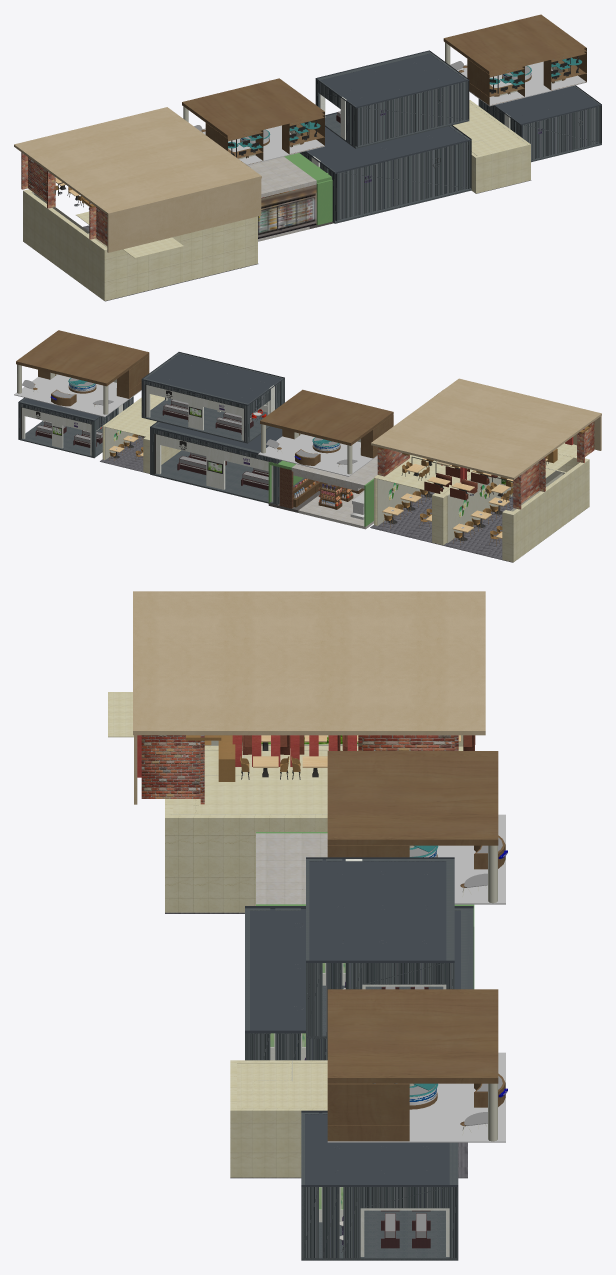
Rendered from gzl_jiangsukejidasha_shop.FBX.
3 views of the same model, one above another, from view 1: azimuth 30°, elevation 25°; view 2: azimuth 150°, elevation 25°; view 3: azimuth 270°, elevation 25° (orthographic). The views are drawn at different scales.
Parts seen in each view (by area): view 1: gzl_jiangsukejidasha_shop_32, gzl_jiangsukejidasha_shop_11, gzl_jiangsukejidasha_shop_19, gzl_jiangsukejidasha_shop_31, gzl_jiangsukejidasha_shop_07, gzl_jiangsukejidasha_shop_30, gzl_jiangsukejidasha_shop_03, gzl_jiangsukejidasha_shop_10, gzl_jiangsukejidasha_shop_05, gzl_jiangsukejidasha_shop_09, gzl_jiangsukejidasha_shop_22, gzl_jiangsukejidasha_shop_23 (+1 smaller); view 2: gzl_jiangsukejidasha_shop_32, gzl_jiangsukejidasha_shop_11, gzl_jiangsukejidasha_shop_31, gzl_jiangsukejidasha_shop_19, gzl_jiangsukejidasha_shop_35, gzl_jiangsukejidasha_shop_30, gzl_jiangsukejidasha_shop_16, gzl_jiangsukejidasha_shop_23, gzl_jiangsukejidasha_shop_03, gzl_jiangsukejidasha_shop_10, gzl_jiangsukejidasha_boli, gzl_jiangsukejidasha_shop_08 (+9 smaller); view 3: gzl_jiangsukejidasha_shop_11, gzl_jiangsukejidasha_shop_32, gzl_jiangsukejidasha_shop_31, gzl_jiangsukejidasha_shop_19, gzl_jiangsukejidasha_shop_30, gzl_jiangsukejidasha_shop_10, gzl_jiangsukejidasha_shop_03, gzl_jiangsukejidasha_shop_13, gzl_jiangsukejidasha_boli, gzl_jiangsukejidasha_shop_23, gzl_jiangsukejidasha_shop_35, gzl_jiangsukejidasha_shop_08 (+2 smaller).
Part boxes in pixels (left/top/right/bottom): gzl_jiangsukejidasha_shop_32: left=299, top=50, right=601, bottom=223; gzl_jiangsukejidasha_shop_11: left=14, top=107, right=261, bottom=252; gzl_jiangsukejidasha_shop_19: left=23, top=100, right=530, bottom=300; gzl_jiangsukejidasha_shop_31: left=182, top=14, right=586, bottom=164; gzl_jiangsukejidasha_shop_07: left=58, top=58, right=568, bottom=238; gzl_jiangsukejidasha_shop_30: left=201, top=61, right=586, bottom=165; gzl_jiangsukejidasha_shop_03: left=247, top=156, right=316, bottom=241; gzl_jiangsukejidasha_shop_10: left=21, top=152, right=107, bottom=245; gzl_jiangsukejidasha_shop_05: left=284, top=153, right=332, bottom=225; gzl_jiangsukejidasha_shop_09: left=55, top=56, right=582, bottom=209; gzl_jiangsukejidasha_shop_22: left=228, top=57, right=581, bottom=149; gzl_jiangsukejidasha_shop_23: left=32, top=42, right=562, bottom=234; gzl_jiangsukejidasha_shop_32: left=18, top=352, right=305, bottom=504; gzl_jiangsukejidasha_shop_11: left=371, top=378, right=601, bottom=479; gzl_jiangsukejidasha_shop_31: left=16, top=330, right=393, bottom=465; gzl_jiangsukejidasha_shop_19: left=102, top=394, right=589, bottom=562; gzl_jiangsukejidasha_shop_35: left=22, top=385, right=274, bottom=501; gzl_jiangsukejidasha_shop_30: left=14, top=374, right=377, bottom=476; gzl_jiangsukejidasha_shop_16: left=100, top=436, right=513, bottom=562; gzl_jiangsukejidasha_shop_23: left=17, top=364, right=569, bottom=542; gzl_jiangsukejidasha_shop_03: left=291, top=456, right=377, bottom=529; gzl_jiangsukejidasha_shop_10: left=377, top=421, right=594, bottom=509; gzl_jiangsukejidasha_boli: left=22, top=378, right=357, bottom=484; gzl_jiangsukejidasha_shop_08: left=109, top=390, right=591, bottom=545; gzl_jiangsukejidasha_shop_11: left=133, top=591, right=485, bottom=804; gzl_jiangsukejidasha_shop_32: left=245, top=857, right=473, bottom=1260; gzl_jiangsukejidasha_shop_31: left=327, top=751, right=505, bottom=1141; gzl_jiangsukejidasha_shop_19: left=108, top=692, right=463, bottom=1177; gzl_jiangsukejidasha_shop_30: left=327, top=814, right=505, bottom=1142; gzl_jiangsukejidasha_shop_10: left=141, top=735, right=458, bottom=804; gzl_jiangsukejidasha_shop_03: left=256, top=833, right=327, bottom=904; gzl_jiangsukejidasha_shop_13: left=137, top=735, right=356, bottom=777; gzl_jiangsukejidasha_boli: left=385, top=837, right=502, bottom=1237; gzl_jiangsukejidasha_shop_23: left=169, top=740, right=497, bottom=1141; gzl_jiangsukejidasha_shop_35: left=270, top=859, right=449, bottom=1256; gzl_jiangsukejidasha_shop_08: left=186, top=735, right=300, bottom=781.
Size of the model in its own units: 43279 by 7465 by 14851.
